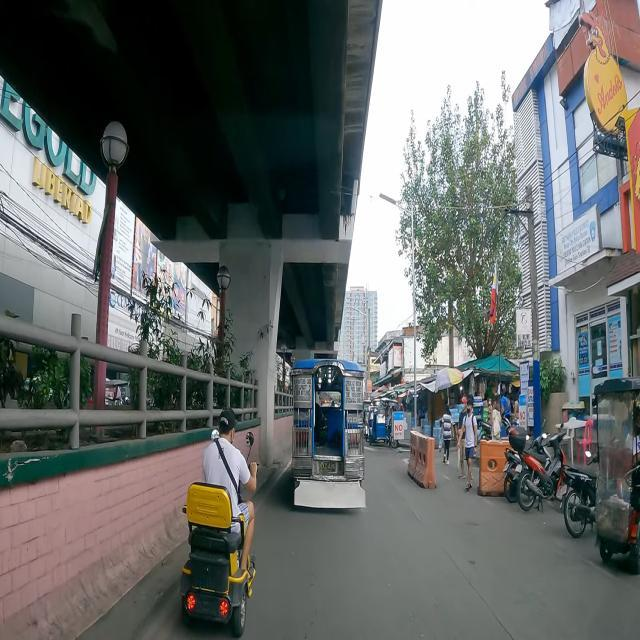jeepney: (290, 357, 366, 512)
motorcycle: (558, 439, 620, 540), (508, 424, 570, 512), (502, 432, 554, 504)
tricycle: (595, 376, 640, 572), (368, 398, 398, 449), (364, 399, 380, 442)
